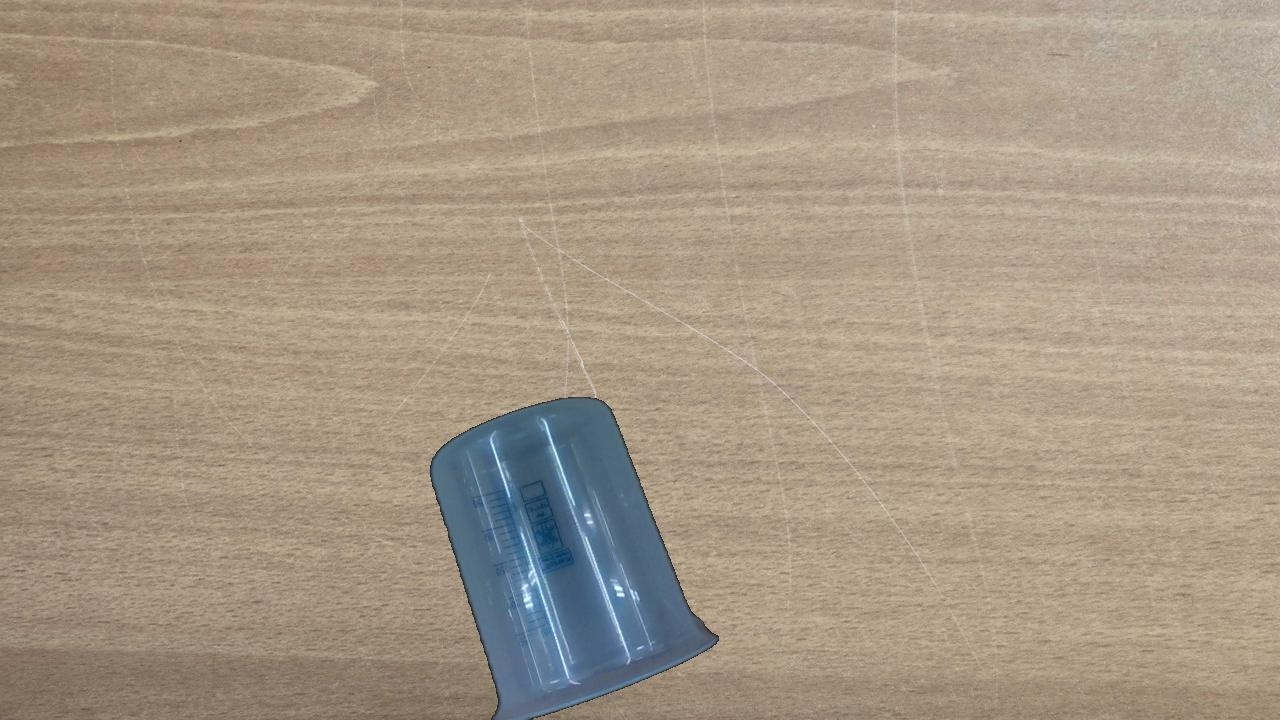becker: (428, 395, 720, 715)
